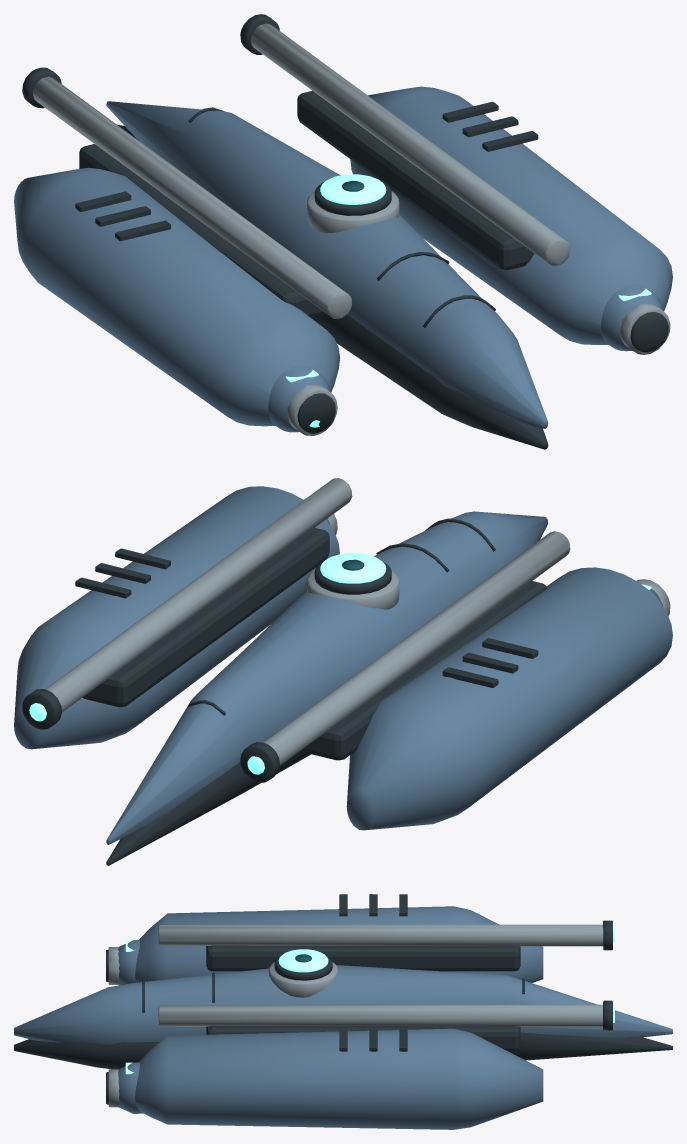
Rendered from enemy-3.glb.
3 views of the same model, one above another, from view 1: azimuth 30°, elevation 25°; view 2: azimuth 150°, elevation 25°; view 3: azimuth 270°, elevation 25° (orthographic). The views are drawn at different scales.
Visible parts, largest first — view 1: SM_Hull; view 2: SM_Hull; view 3: SM_Hull.
Boxes of the visible parts, <box> form: SM_Hull: <box>14,14,672,449</box>; SM_Hull: <box>14,478,672,865</box>; SM_Hull: <box>14,894,672,1129</box>.
Size of the model in its own units: 4 by 1.2 by 6.6.
